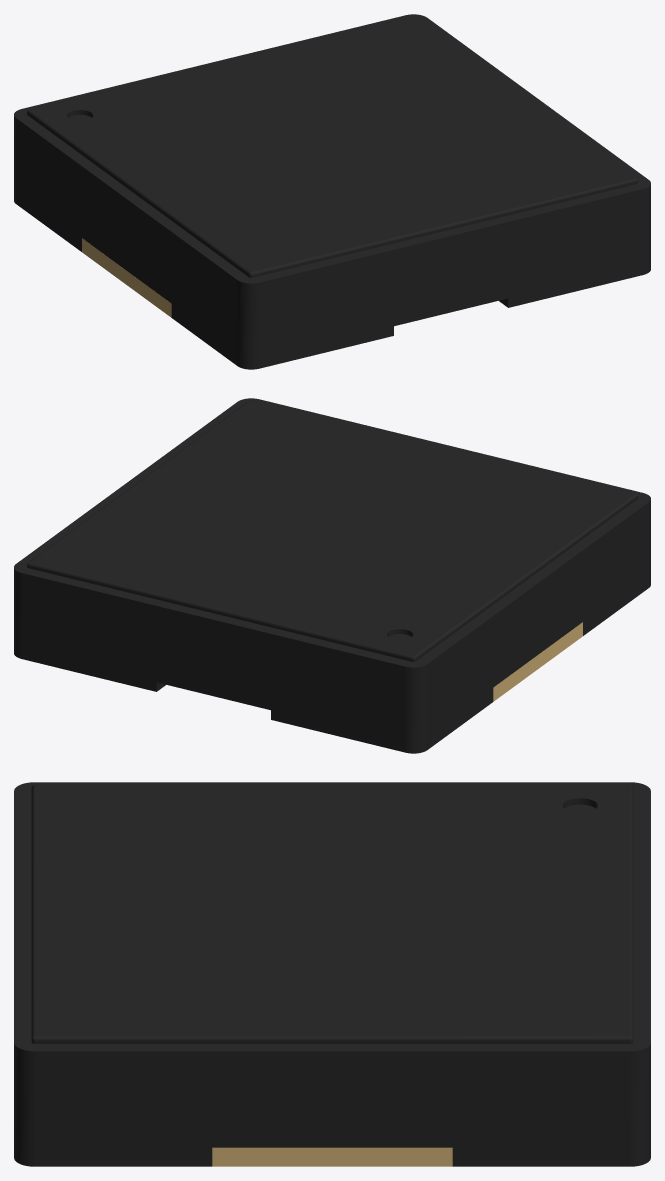
The model's file is kc-buzzer_murata_pkmcs0909e.glb.
3 renders of one model, top to bottom at view 1: azimuth 30°, elevation 25°; view 2: azimuth 150°, elevation 25°; view 3: azimuth 270°, elevation 25°, orthographic. The views are drawn at different scales.
Parts seen in each view (by area): view 1: 0_0_0_0, 0.75_0.5_0.25_0.9; view 2: 0_0_0_0, 0.75_0.5_0.25_0.9; view 3: 0_0_0_0, 0.75_0.5_0.25_0.9.
Boxes of the visible parts, bbox=[...] form: 0_0_0_0: bbox=[14, 14, 650, 369]; 0.75_0.5_0.25_0.9: bbox=[82, 238, 171, 317]; 0_0_0_0: bbox=[14, 398, 650, 753]; 0.75_0.5_0.25_0.9: bbox=[493, 622, 582, 701]; 0_0_0_0: bbox=[14, 782, 650, 1166]; 0.75_0.5_0.25_0.9: bbox=[212, 1147, 452, 1166].
Bounding box in the file's own units: 0.9 × 0.19 × 0.9.
